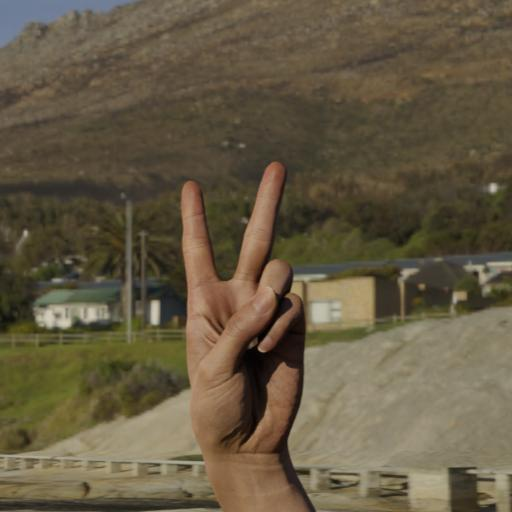V: (137, 125, 337, 477)
